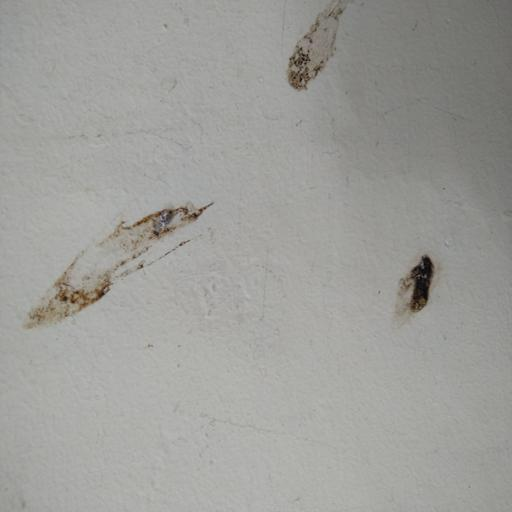stain: (26, 194, 248, 370), (266, 0, 384, 115), (373, 238, 456, 364)
